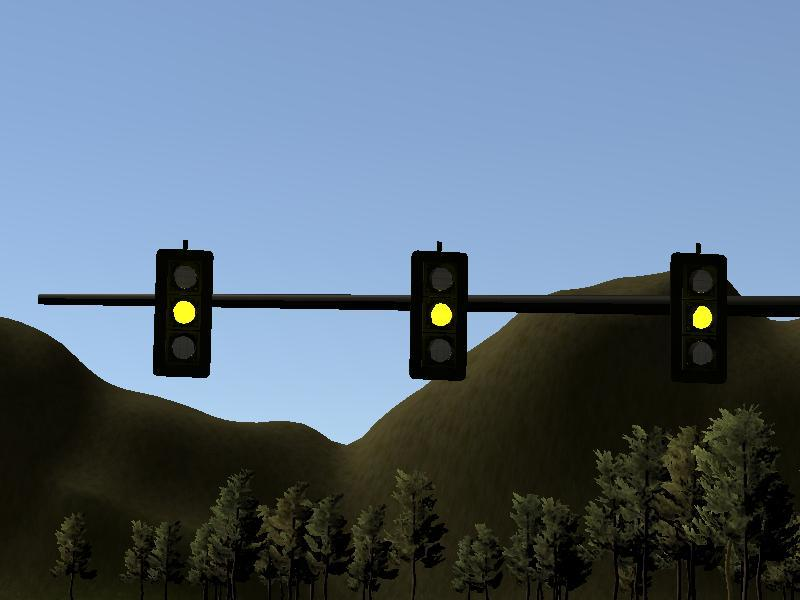Yellow: (411, 251, 467, 381), (670, 253, 726, 383), (155, 251, 213, 376)
